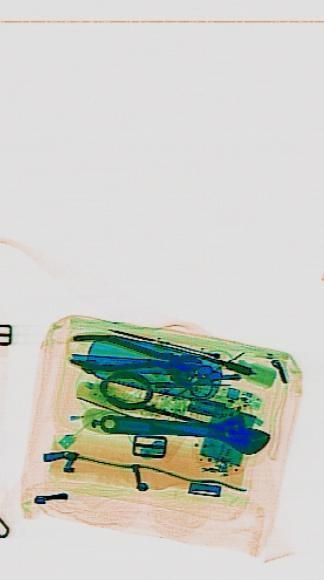Pliers: (68, 331, 201, 379)
Wrench: (97, 402, 269, 454)
